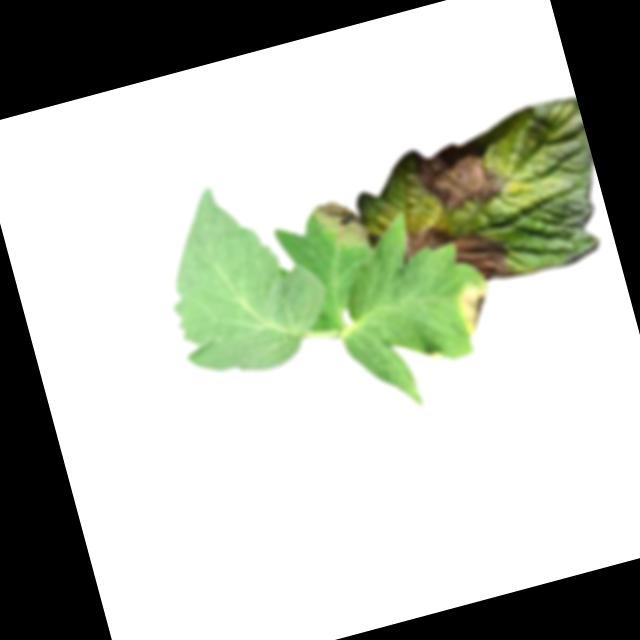Late_blight: (410, 129, 512, 217), (307, 189, 371, 260), (451, 223, 519, 286), (453, 281, 500, 337), (399, 221, 453, 260)
healthy: (145, 164, 343, 390)
